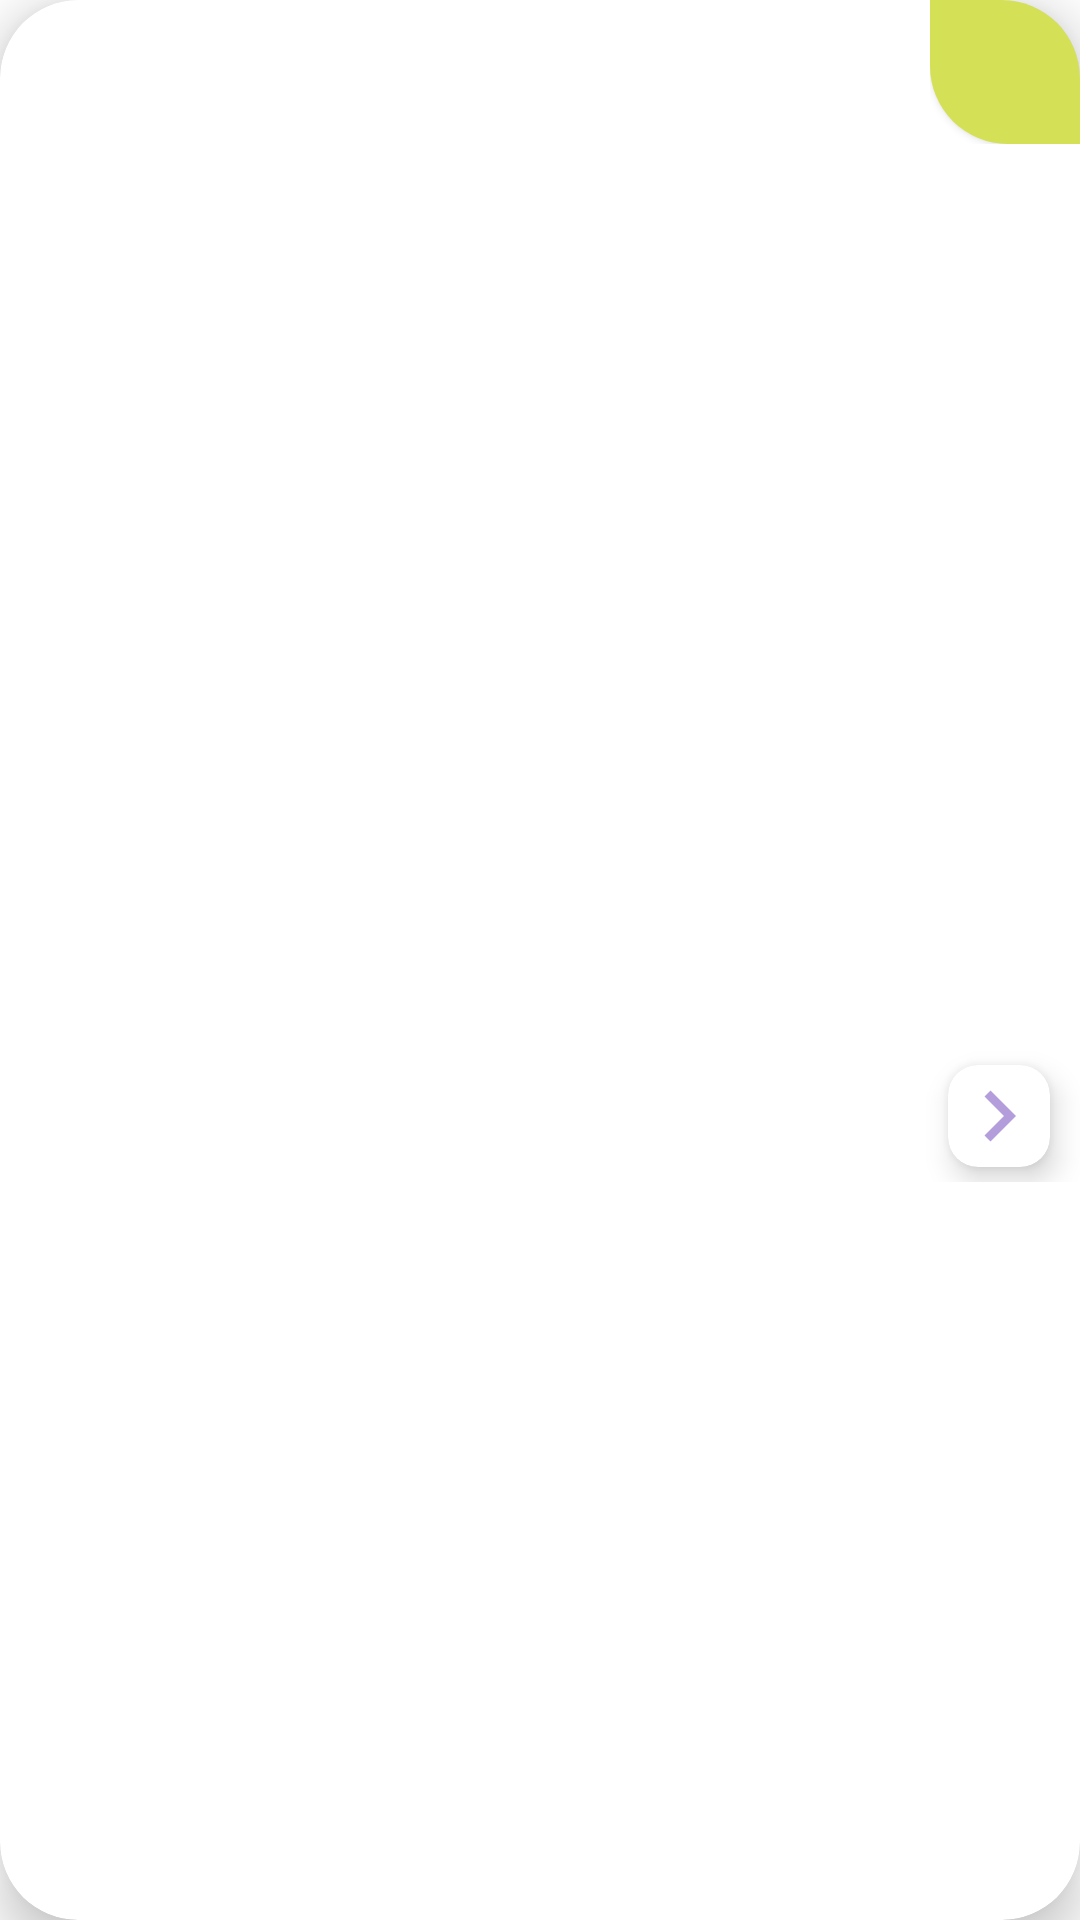

Where icons sit on this 1080x1920 app screen, as box=[x1, y1, x2, y2]:
next: box=[985, 1091, 1016, 1141]
